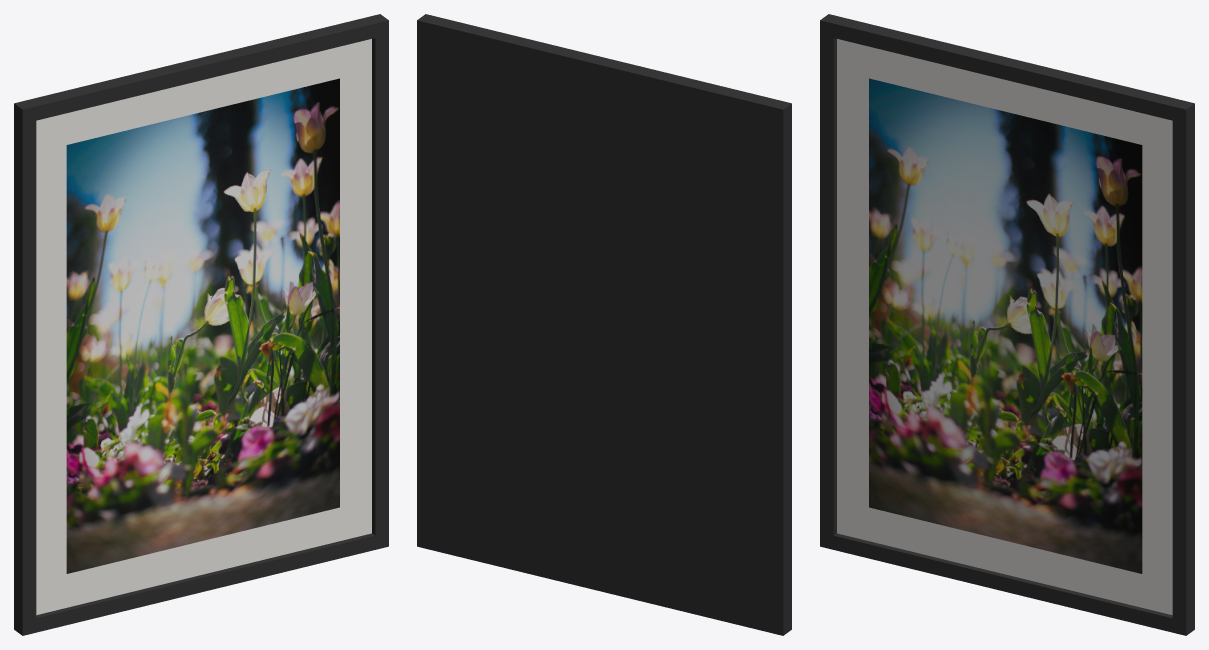
The model's file is tulpanerna-60.gltf.
The picture shows the model from 3 angles, left to right: view 1: azimuth 30°, elevation 25°; view 2: azimuth 150°, elevation 25°; view 3: azimuth 330°, elevation 25°; orthographic projection.
Parts seen in each view (by area): view 1: tavla; view 2: tavla; view 3: tavla.
Boxes of the visible parts, bbox=[...] form: tavla: bbox=[14, 14, 388, 635]; tavla: bbox=[417, 14, 791, 635]; tavla: bbox=[820, 14, 1194, 635].
Bounding box in the file's own units: 0.536 × 0.736 × 0.022.
3 materials, 1 textured.
